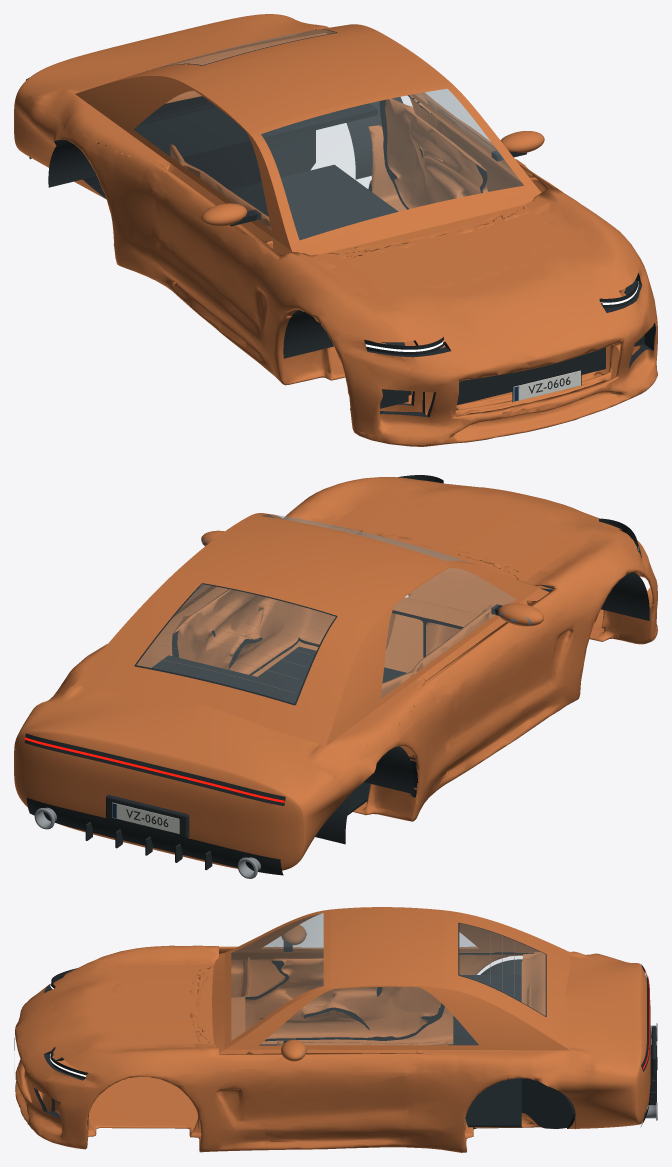
File: solstice-lux-gt.glb
3 renders of one model, top to bottom at view 1: azimuth 30°, elevation 25°; view 2: azimuth 150°, elevation 25°; view 3: azimuth 270°, elevation 25°, orthographic. The views are drawn at different scales.
Visible parts, largest first — view 1: Lux continuous body, Window windscreen, Driver_hood, Unified canopy roof, Window left, Dark closed passenger floor, Rear parcel shelf, Continuous canopy shoulder transition, Window rear, Recessed central grille, Window right, Black wheel housing F-1 (+6 smaller); view 2: Lux continuous body, Window rear, Driver_hood, Unified canopy roof, Window left, Rear graphite detailing, Black wheel housing R-1, Rear parcel shelf, Dark closed passenger floor, Window windscreen, Black wheel housing F-1, Continuous canopy shoulder transition (+6 smaller); view 3: Lux continuous body, Window right, Driver_hood, Window rear, Window windscreen, Unified canopy roof, Window left, Continuous canopy shoulder transition, Dark closed passenger floor, Rear parcel shelf, Rear graphite detailing, Black wheel housing R-1 (+2 smaller).
Boxes of the visible parts, x1,y1,x2,y2 form: Lux continuous body: (14,14,657,446); Window windscreen: (249,83,539,251); Driver_hood: (321,205,621,345); Unified canopy roof: (180,32,451,132); Window left: (75,76,291,250); Dark closed passenger floor: (230,164,398,240); Rear parcel shelf: (133,103,377,161); Continuous canopy shoulder transition: (168,103,541,255); Window rear: (98,24,379,86); Recessed central grille: (457,347,605,405); Window right: (326,31,512,170); Black wheel housing F-1: (283,310,411,395); Lux continuous body: (14,477,657,870); Window rear: (75,568,379,746); Driver_hood: (327,479,622,581); Unified canopy roof: (180,516,450,616); Window left: (326,563,539,745); Rear graphite detailing: (24,733,285,875); Black wheel housing R-1: (315,746,414,844); Rear parcel shelf: (151,655,300,703); Dark closed passenger floor: (258,646,406,815); Window windscreen: (249,513,533,586); Black wheel housing F-1: (540,572,649,620); Continuous canopy shoulder transition: (173,578,552,680); Lux continuous body: (15,945,650,1152); Window right: (225,985,569,1050); Driver_hood: (53,964,213,1060); Window rear: (443,910,569,1049); Window windscreen: (224,909,330,1049); Unified canopy roof: (330,907,442,988); Window left: (233,913,540,952); Continuous canopy shoulder transition: (212,952,417,1054); Dark closed passenger floor: (259,1044,521,1127); Rear parcel shelf: (453,975,521,1045); Rear graphite detailing: (641,964,656,1126); Black wheel housing R-1: (480,959,522,974).
Bounding box in the file's own units: 2.28 × 1.25 × 4.66.
